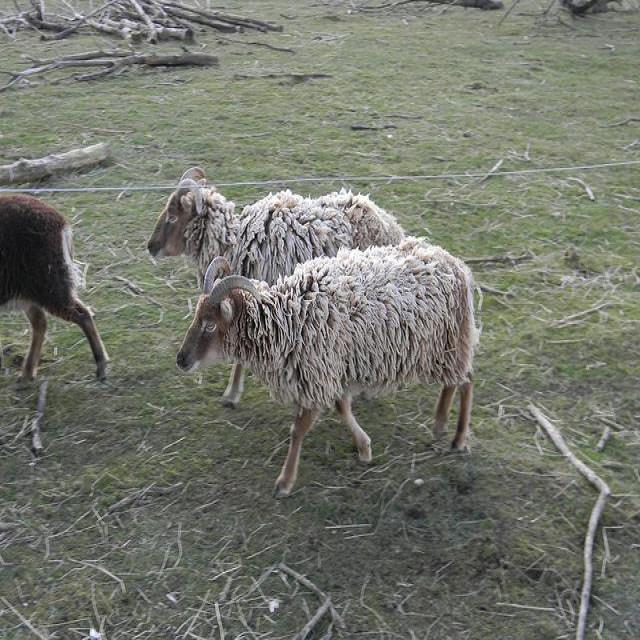Sheep: (178, 248, 482, 497), (147, 170, 430, 406), (1, 193, 110, 384)
